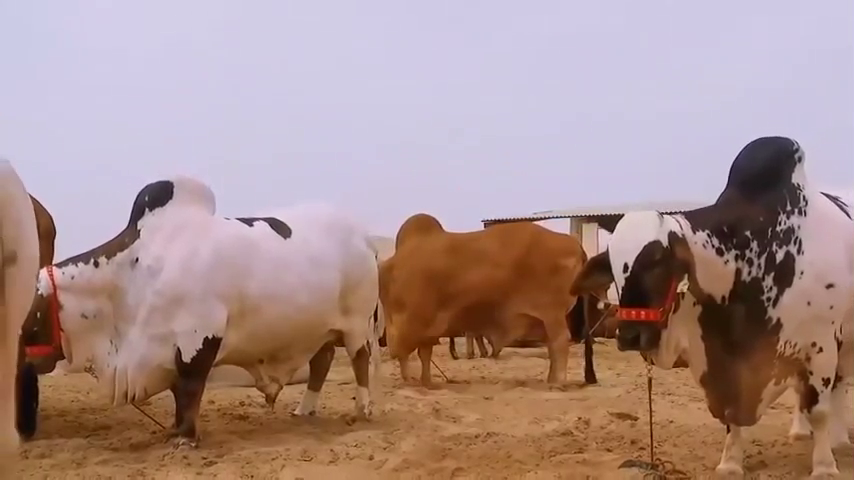bo: (21, 171, 377, 450), (568, 128, 852, 473), (364, 205, 600, 399)
